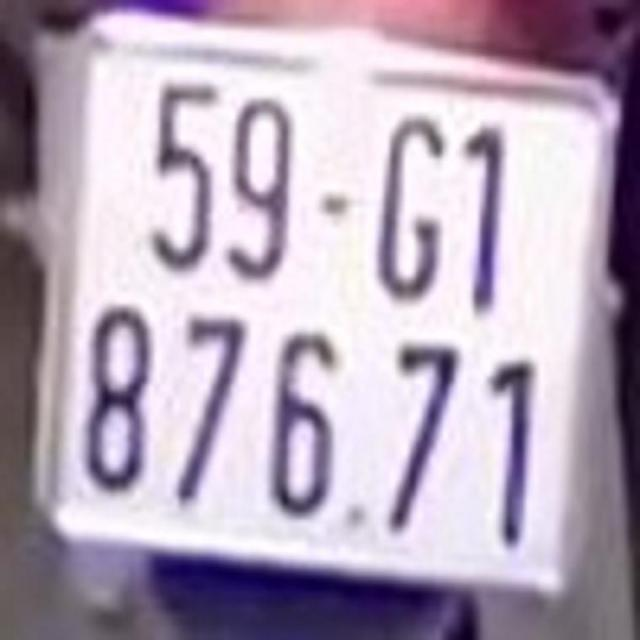1: (477, 346, 544, 561), (454, 113, 518, 314)
5: (153, 80, 218, 274)
6: (267, 318, 335, 520)
7: (388, 333, 459, 544), (172, 308, 246, 508)
8: (86, 300, 150, 495)
9: (222, 95, 293, 283)
G: (373, 113, 447, 305)
